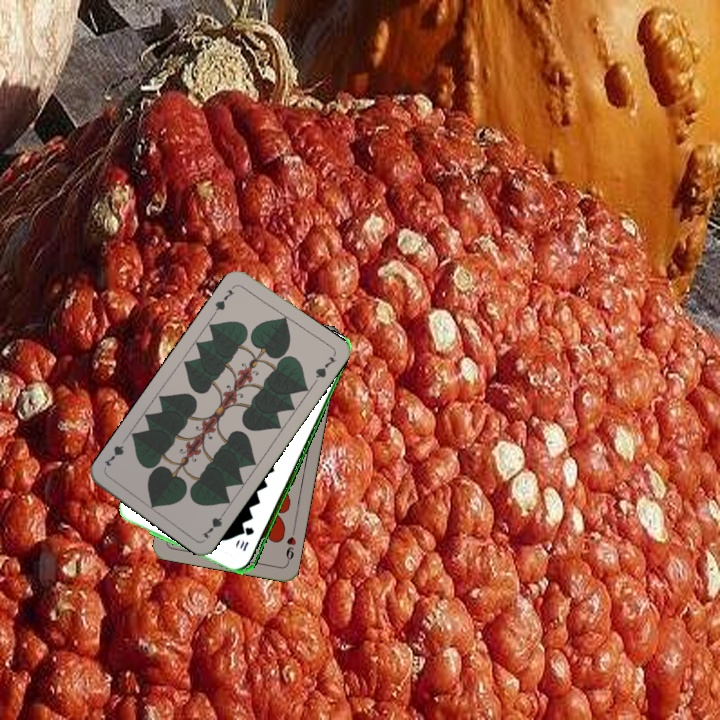G10: (239, 522, 257, 554)
G7: (198, 506, 229, 541), (210, 285, 236, 317)
H9: (282, 526, 299, 566)
